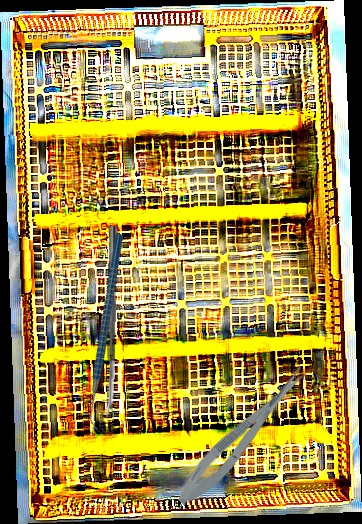Chopper: (30, 232, 187, 433)
Micro Scissor: (169, 361, 317, 513)
Surgical Spoon: (104, 225, 118, 418)
